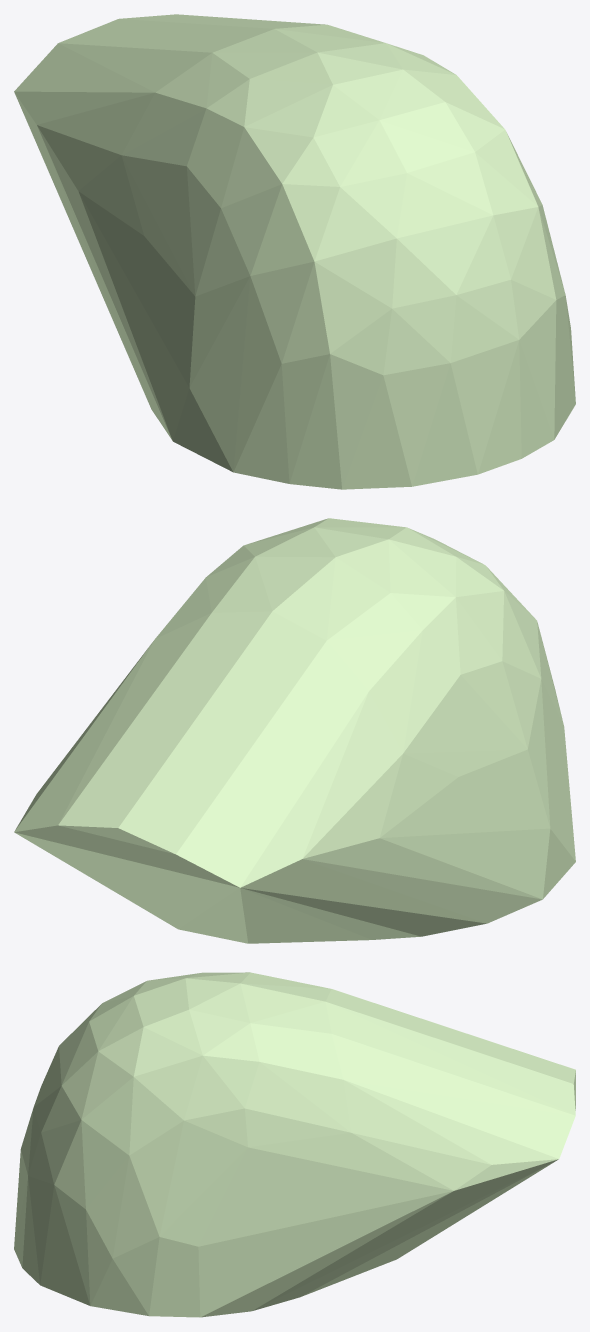
File: iiwa_link4_resp_coll_2.obj
The picture shows the model from 3 angles, top to bottom: view 1: azimuth 30°, elevation 25°; view 2: azimuth 150°, elevation 25°; view 3: azimuth 270°, elevation 25°; orthographic projection. The views are drawn at different scales.
Parts seen in each view (by area): view 1: node; view 2: node; view 3: node.
Part boxes in pixels (x1,y1,x2,y2): node: [14, 14, 575, 489]; node: [14, 518, 575, 943]; node: [14, 972, 575, 1317].
Size of the model in its own units: 0.1366 by 0.1141 by 0.2247.
